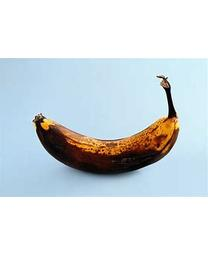banana: (31, 73, 179, 173)
